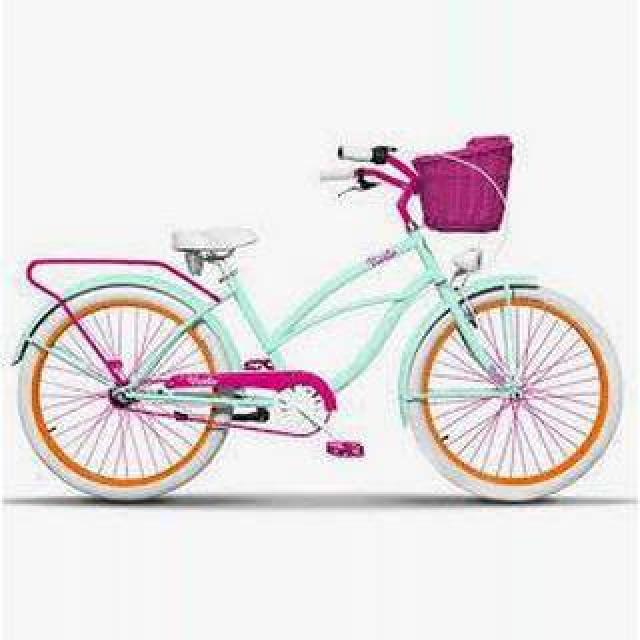Person: (14, 135, 624, 503)
